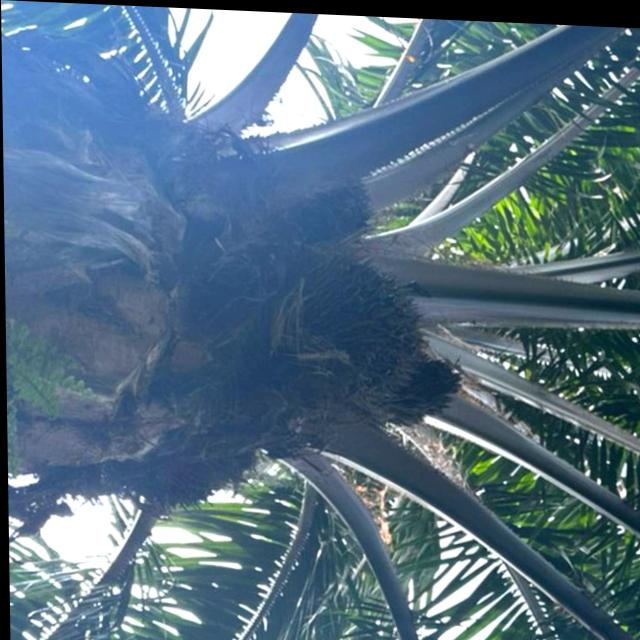almost: (260, 246, 434, 417)
